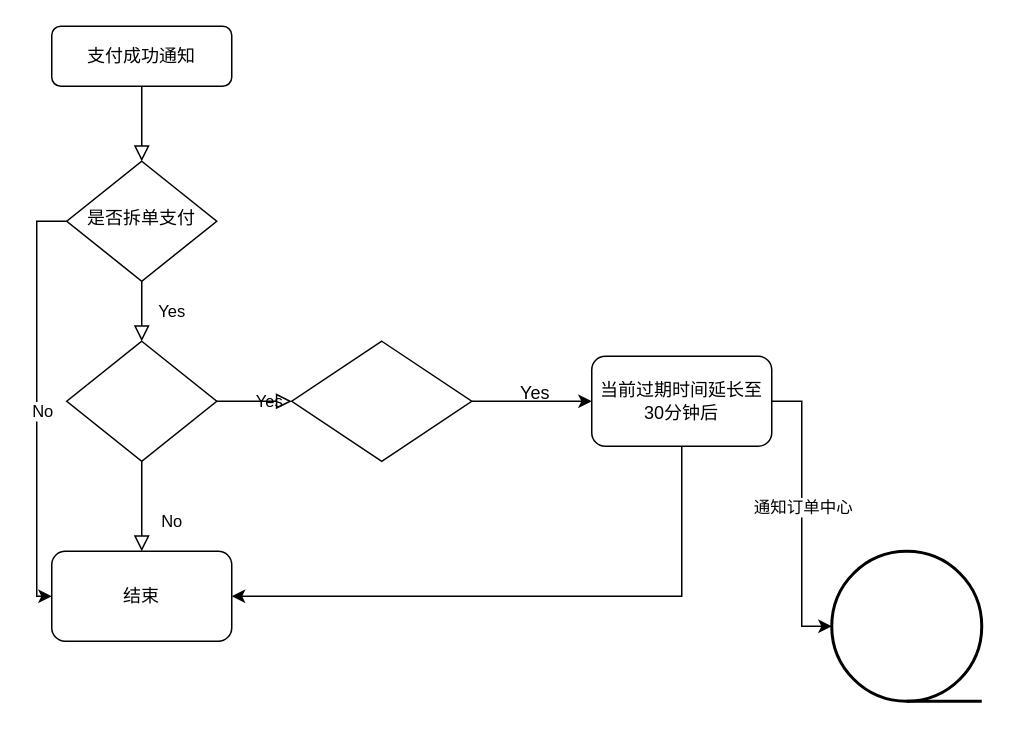
Some shapes in this 1010 by 729 pixel diagram are drawn without their labels. Here are the shapes that lost their labels. From the top down, the centre of each, then its label:
the point at 141,400: 是否存在下一笔待支付订单
the point at 381,400: 判断下一笔待支付订单与当前时间间隔是否小于30分钟大于30s
